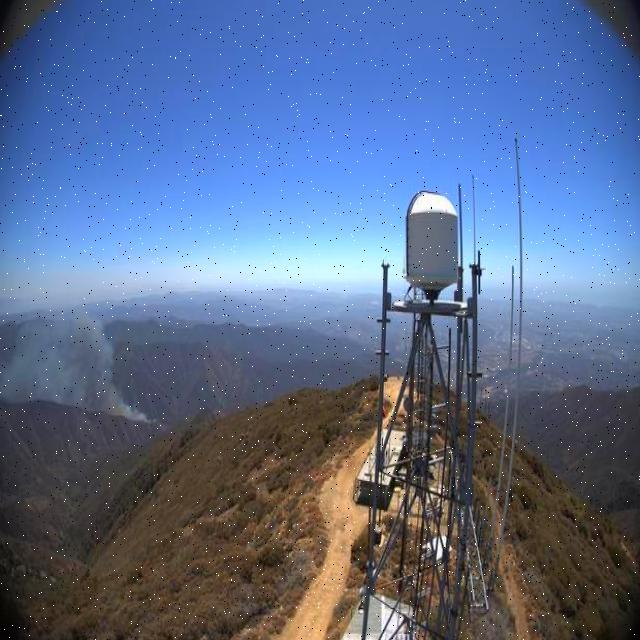smoke: (0, 296, 147, 428)
